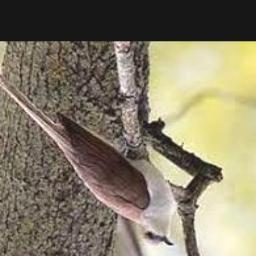Cuckoo: (0, 59, 173, 248)
